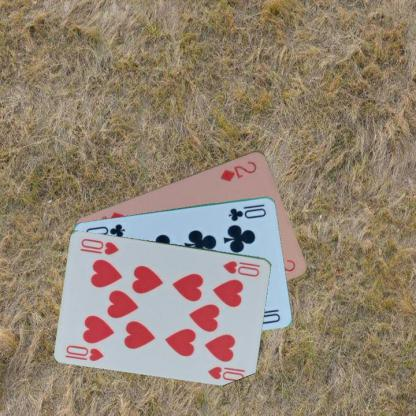10c: (226, 201, 267, 223)
10h: (64, 342, 106, 362), (221, 258, 262, 278)
2d: (218, 158, 258, 183)
